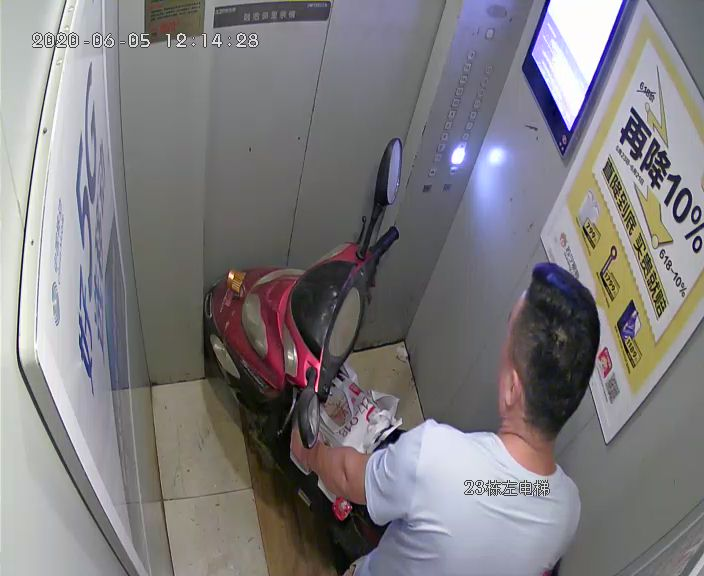Electric-bicycle: (202, 131, 418, 575)
